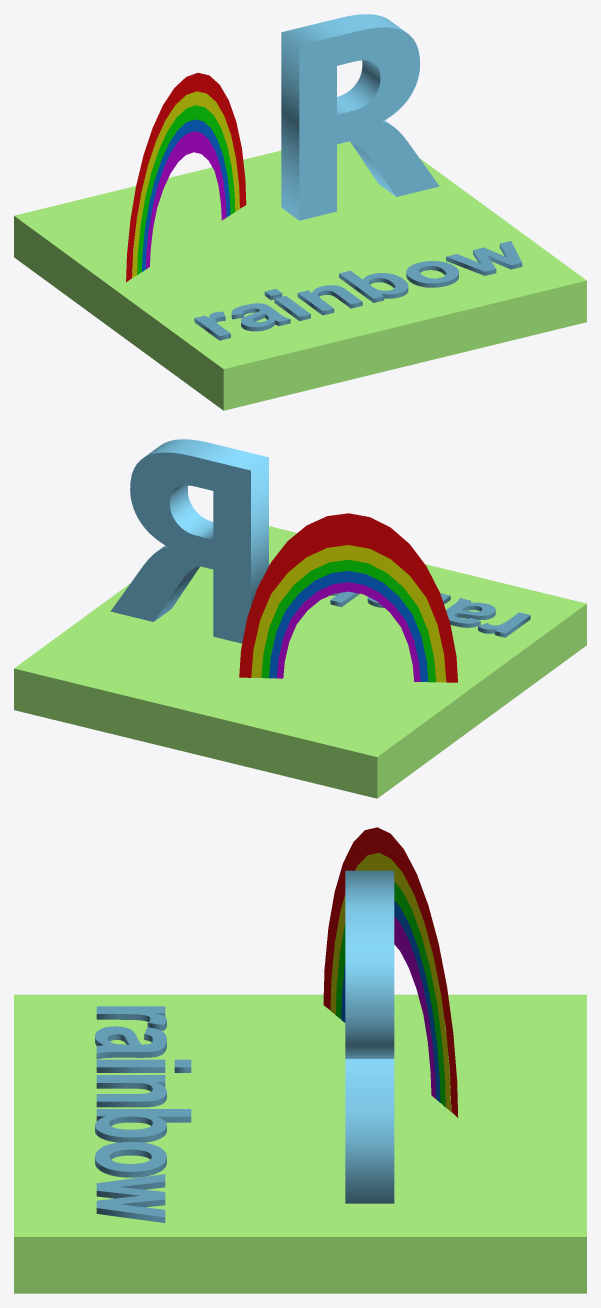
Rendered from rletter.glb.
3 views of the same model, one above another, from view 1: azimuth 30°, elevation 25°; view 2: azimuth 150°, elevation 25°; view 3: azimuth 270°, elevation 25° (orthographic). The views are drawn at different scales.
Parts seen in each view (by area): view 1: Cube.022, Text.003, Circle.004, Text.002; view 2: Cube.022, Text.003, Circle.004, Text.002; view 3: Cube.022, Text.003, Text.002, Circle.004.
Part boxes in pixels (x1,y1,x2,y2): Cube.022: (14,141,586,410); Text.003: (281,14,439,220); Circle.004: (126,73,246,282); Text.002: (194,241,522,340); Cube.022: (14,526,586,798); Text.003: (110,439,268,643); Circle.004: (239,513,457,682); Text.002: (269,564,530,637); Cube.022: (14,994,586,1293); Text.003: (345,870,394,1203); Text.002: (95,1006,191,1222); Circle.004: (323,827,458,1117).
Size of the model in its own units: 0.3237 by 0.1946 by 0.3237.
